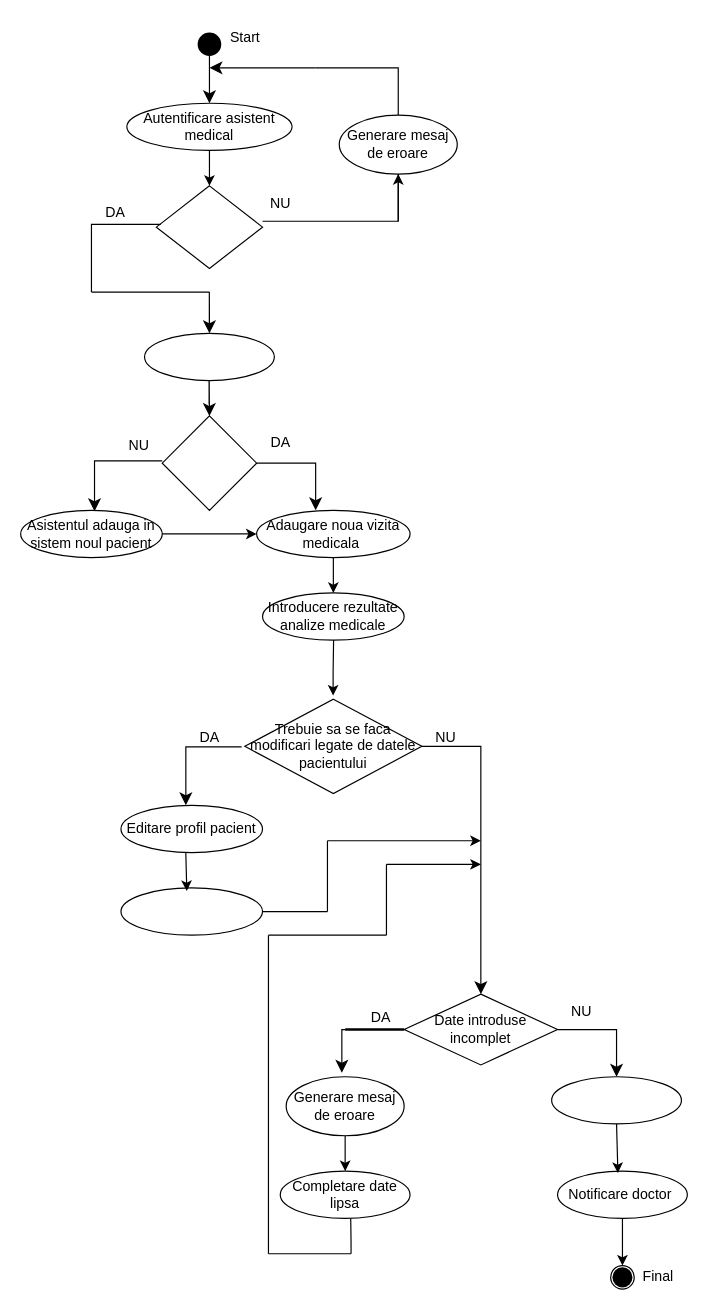
The diagram is 708 pixels wide and 1315 high, and some of its shapes have lost their labels. The centre of each missing label's shape, as x and y in pixels:
Autentificare reusita: point 209,226
Cautare pacient in sistem: point 208,356
Pacientul exista in sistem: point 209,462
Salvare modificari: point 191,911
Salvare vizita: point 615,1100
